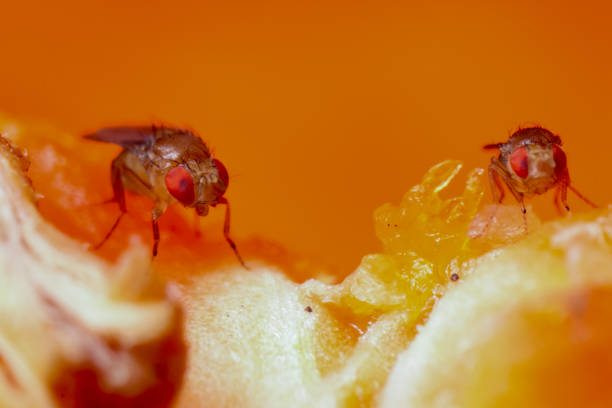Fruit fly: (71, 115, 269, 257), (484, 102, 586, 239)
